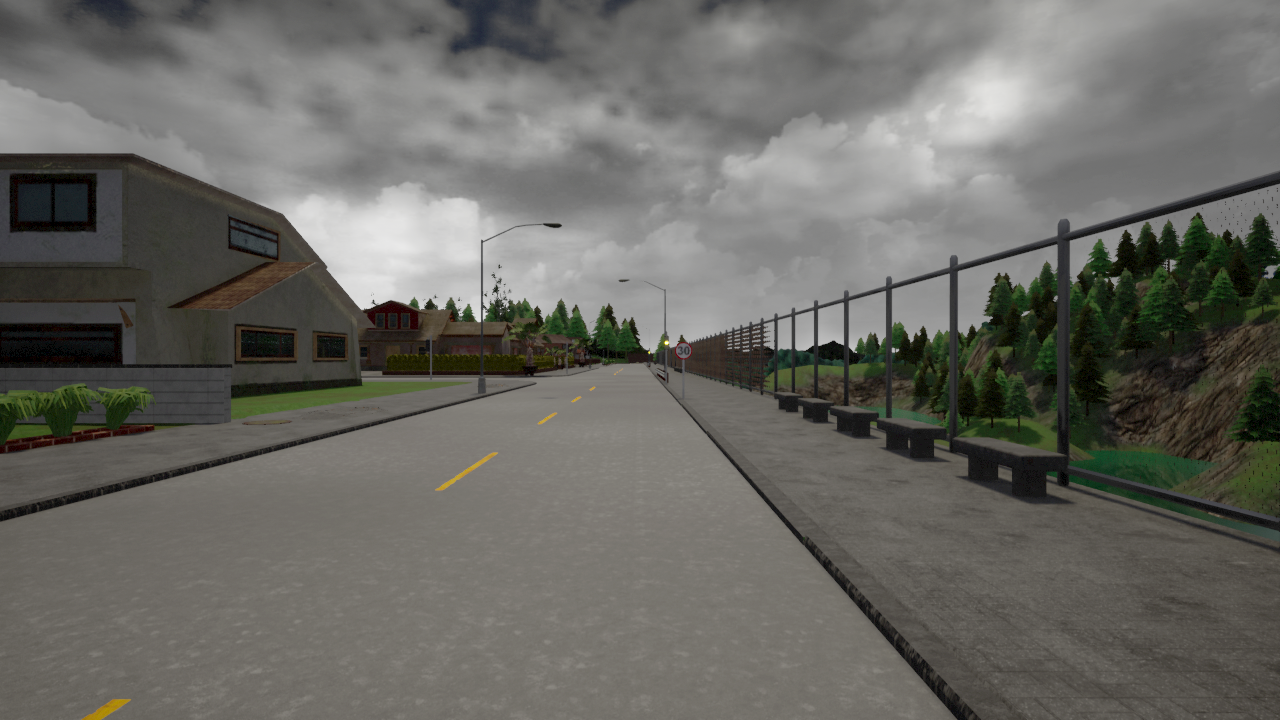yellow: (663, 335, 670, 351)
